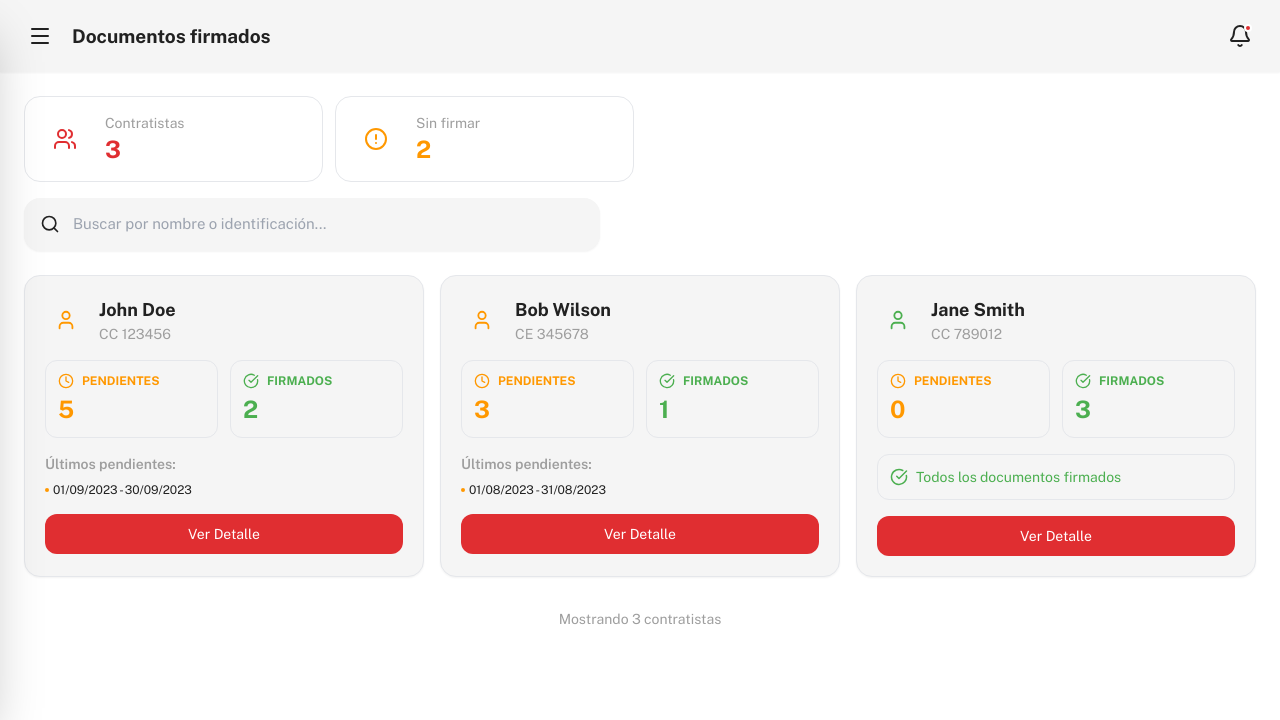
Scenario: ContractorSigningDashboard Page › filters by identification number
Note: Search by ID
Type "123456" into the field with placeholder "Buscar por nombre o identificación..." at (312, 224), box [24,198,600,250]
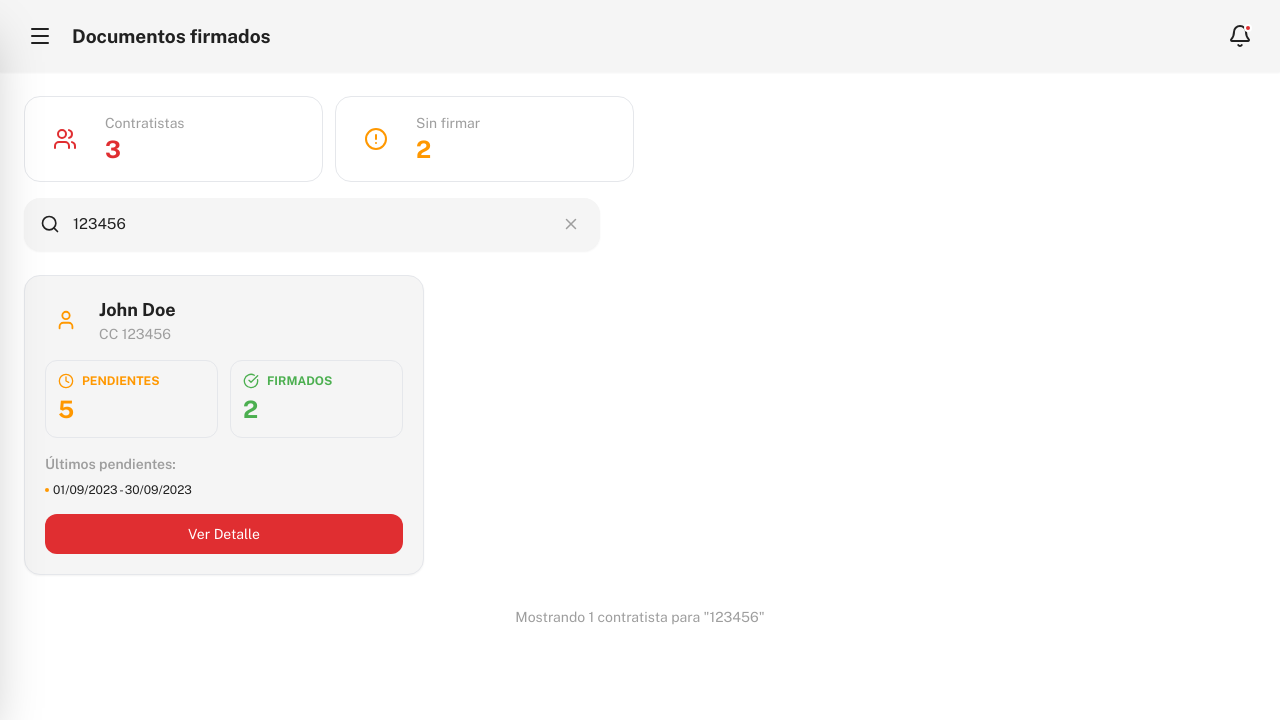
Check: the heading "John Doe" is shown, box [99,298,176,320]
Check: the heading "Jane Smith" is gone
